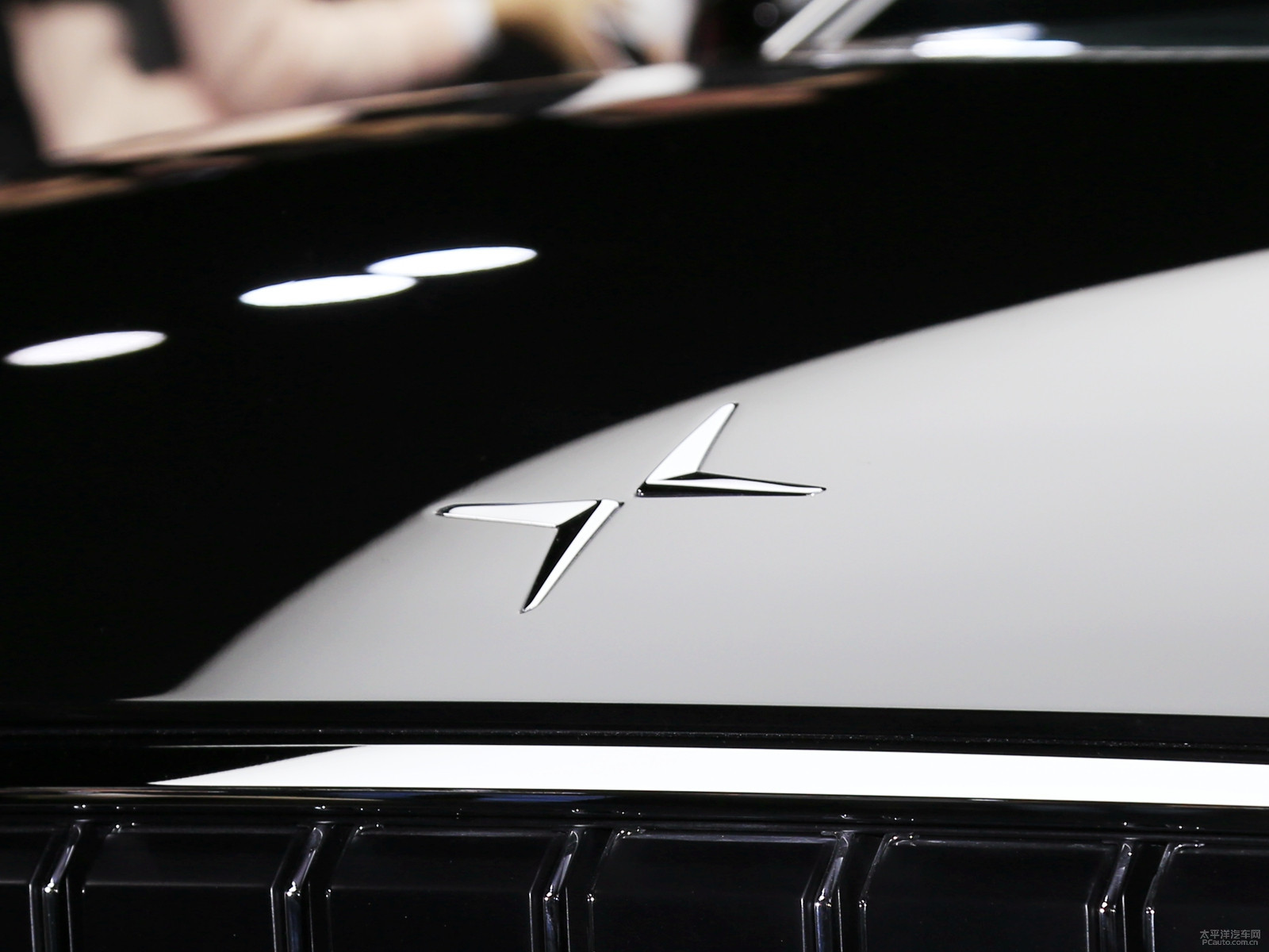Polestar: (437, 404, 825, 611)
